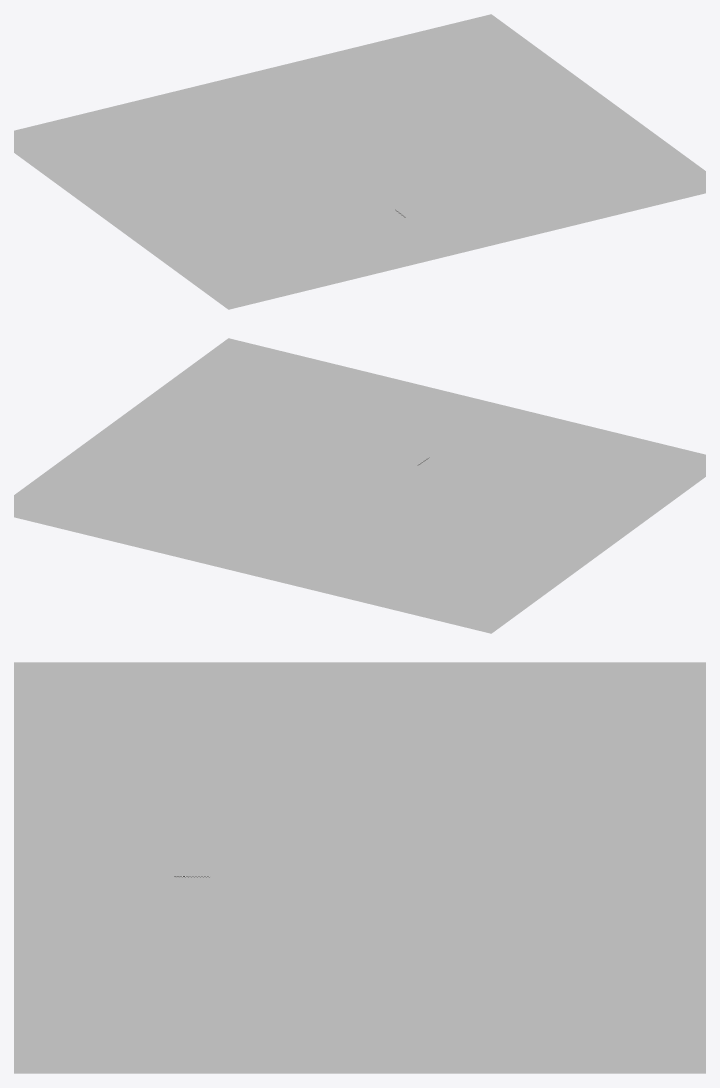
File: penbay_open_ccw.dae
The picture shows the model from 3 angles, top to bottom: view 1: azimuth 30°, elevation 25°; view 2: azimuth 150°, elevation 25°; view 3: azimuth 270°, elevation 25°; orthographic projection. The views are drawn at different scales.
Visible parts, largest first — view 1: field, wall, road, ol, il, cl; view 2: field, wall, road, ol, il, cl; view 3: field, wall, road, il, ol, cl.
Boxes of the visible parts, x1,y1,x2,y2 form: field: [37, 36, 682, 287]; wall: [14, 14, 705, 309]; road: [129, 96, 617, 285]; ol: [151, 105, 595, 277]; il: [127, 95, 619, 285]; cl: [140, 100, 606, 282]; field: [37, 360, 682, 611]; wall: [14, 338, 705, 633]; road: [157, 410, 652, 594]; ol: [179, 420, 630, 586]; il: [155, 410, 654, 594]; cl: [168, 415, 641, 590]; field: [14, 698, 705, 1037]; wall: [14, 662, 705, 1073]; road: [47, 712, 672, 1037]; il: [44, 710, 675, 1037]; ol: [83, 727, 636, 1037]; cl: [64, 719, 655, 1037].
Size of the model in its own units: 22.59 by 17.58 by 1.
